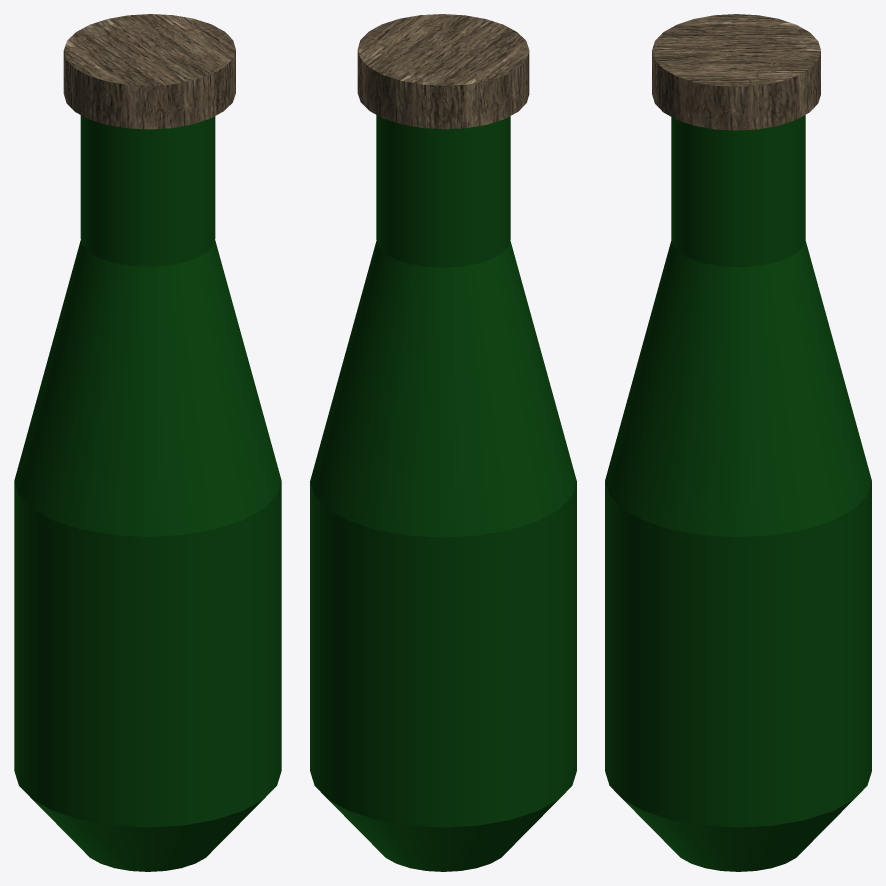
The model's file is wine bottle.fbx.
3 renders of one model, left to right at view 1: azimuth 30°, elevation 25°; view 2: azimuth 150°, elevation 25°; view 3: azimuth 270°, elevation 25°, orthographic.
Visible parts, largest first — view 1: cylinder (×3), cylinder_taper% (×2); view 2: cylinder (×3), cylinder_taper% (×2); view 3: cylinder (×3), cylinder_taper% (×2).
Boxes of the visible parts, x1=… form: cylinder (×3): x1=14, y1=14, x2=281, y2=827; cylinder_taper% (×2): x1=14, y1=240, x2=281, y2=871; cylinder (×3): x1=310, y1=14, x2=576, y2=827; cylinder_taper% (×2): x1=310, y1=241, x2=576, y2=871; cylinder (×3): x1=605, y1=14, x2=871, y2=827; cylinder_taper% (×2): x1=605, y1=240, x2=871, y2=871.
Bounding box in the file's own units: 10 × 32.8 × 10.
Materials: 2 (1 with a texture image).
